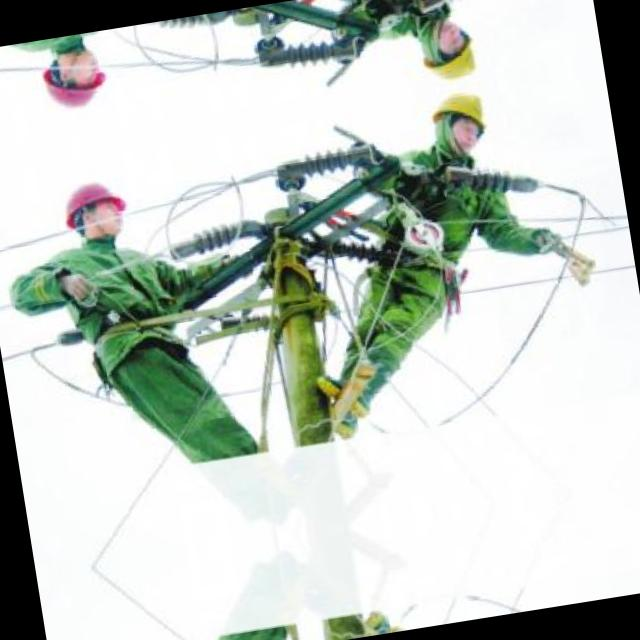helmet: (34, 40, 116, 118), (55, 170, 136, 248), (424, 82, 496, 160), (412, 10, 484, 88)
